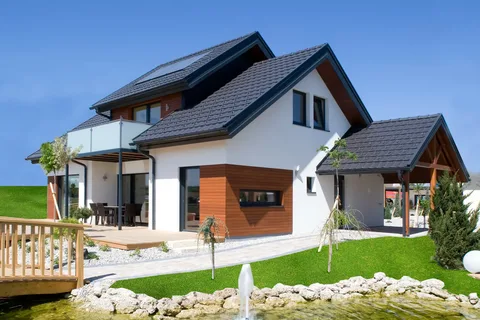private_hause: (68, 51, 411, 232)
